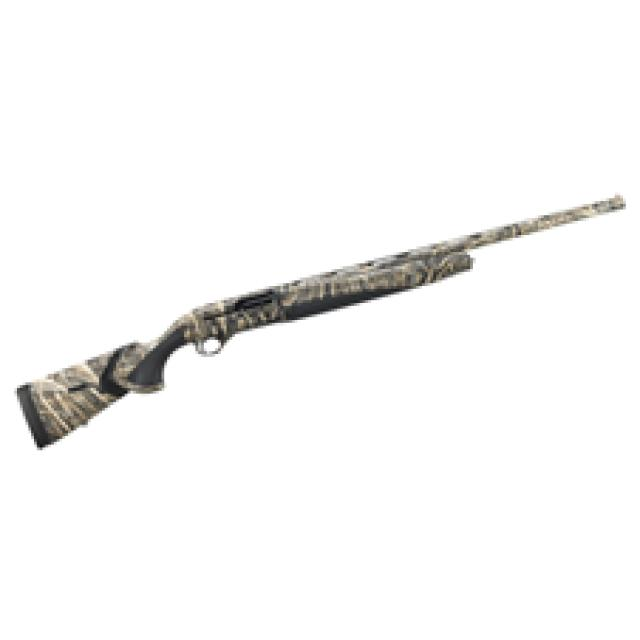rifle: (8, 172, 640, 459)
